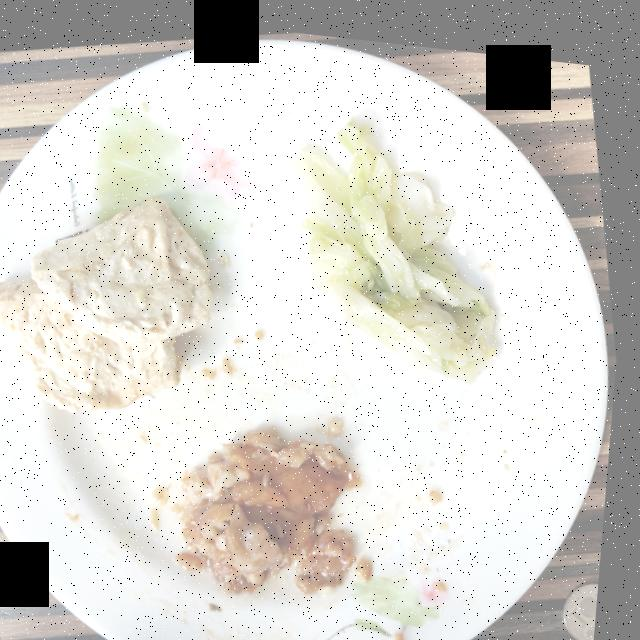Kabayaki sea bream fillet: (185, 418, 367, 587)
cabbage: (289, 115, 500, 371)
coin: (572, 568, 607, 630)
